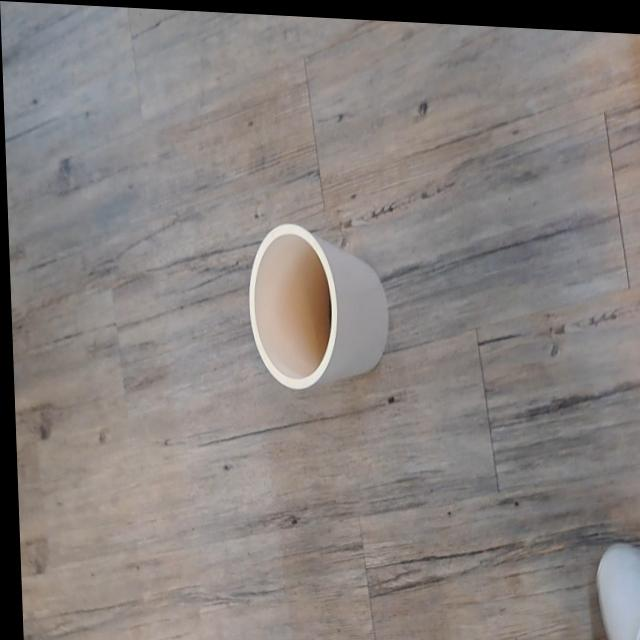CORAL: (229, 195, 426, 456)
